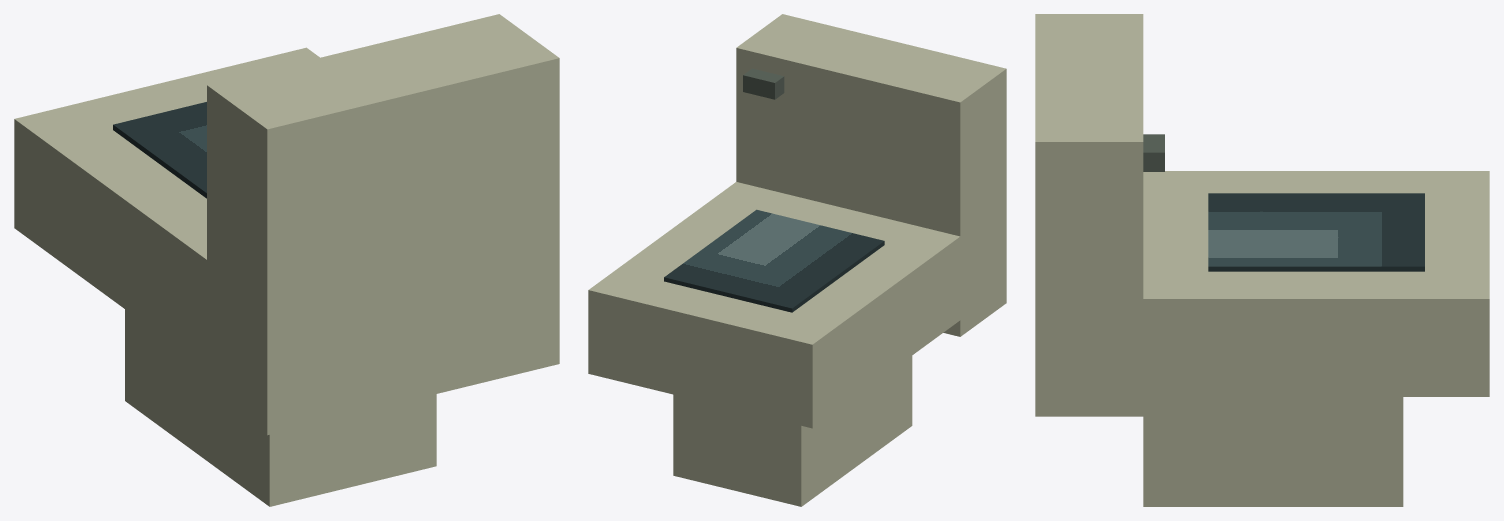
Rendered from toilet.gltf.
The picture shows the model from 3 angles, left to right: view 1: azimuth 30°, elevation 25°; view 2: azimuth 150°, elevation 25°; view 3: azimuth 270°, elevation 25°; orthographic projection. The views are drawn at different scales.
Parts seen in each view (by area): view 1: cistern, bowl, base, seat_hole; view 2: bowl, cistern, base, seat_hole, flush; view 3: bowl, cistern, base, seat_hole, flush.
Boxes of the visible parts, x1,y1,x2,y2 form: cistern: (207, 14, 559, 435); bowl: (14, 47, 319, 368); base: (125, 309, 436, 506); seat_hole: (113, 102, 206, 198); bowl: (588, 182, 960, 428); cistern: (736, 14, 1006, 336); base: (673, 356, 912, 506); seat_hole: (664, 209, 884, 312); flush: (743, 68, 784, 99); bowl: (1143, 171, 1489, 396); cistern: (1035, 14, 1143, 416); base: (1143, 397, 1403, 506); seat_hole: (1208, 193, 1424, 271); flush: (1143, 134, 1164, 171).
Size of the model in its own units: 0.875 by 1.25 by 1.31.
3 materials, 3 textured.
